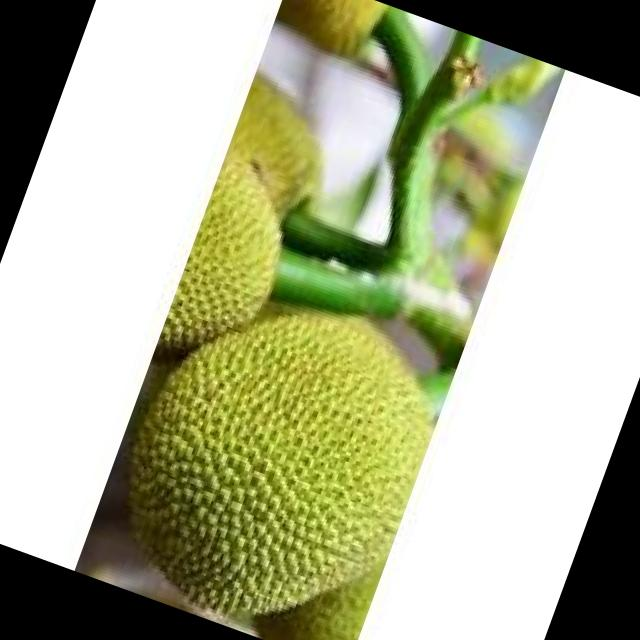Fruit: (74, 232, 468, 640)
